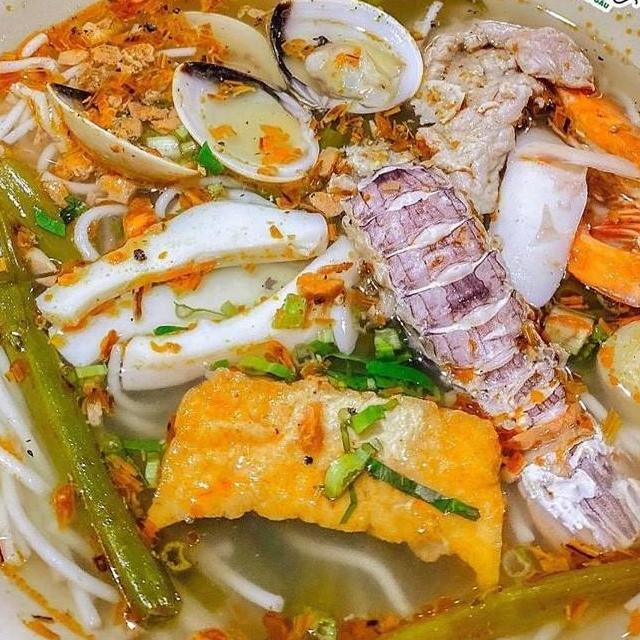bun: (0, 25, 188, 271), (0, 298, 128, 637), (138, 510, 420, 640)
bun hai san: (0, 0, 640, 640)
dau hu: (132, 360, 516, 605)
muc: (108, 220, 388, 406), (26, 185, 336, 337)
thit heo: (380, 14, 598, 224)
tom: (513, 73, 640, 328)
tom tit: (318, 128, 640, 566)
